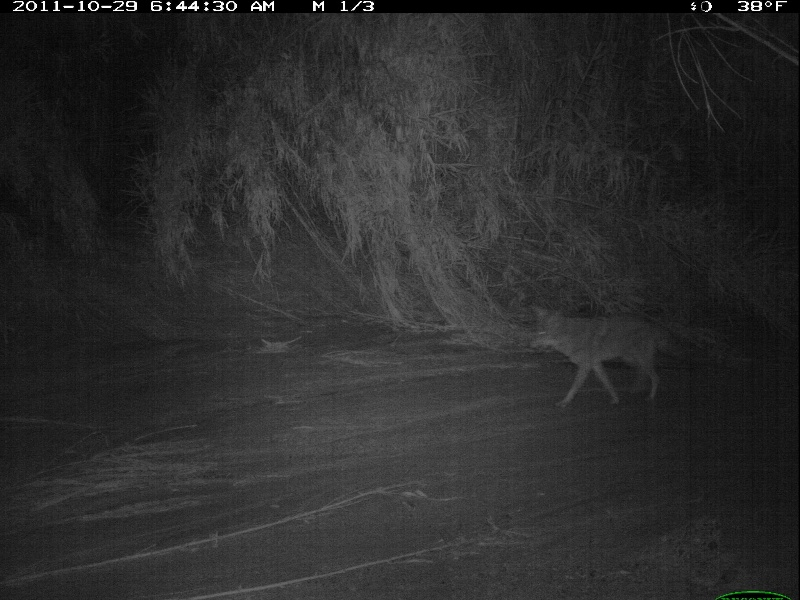coyote: (529, 301, 713, 414)
